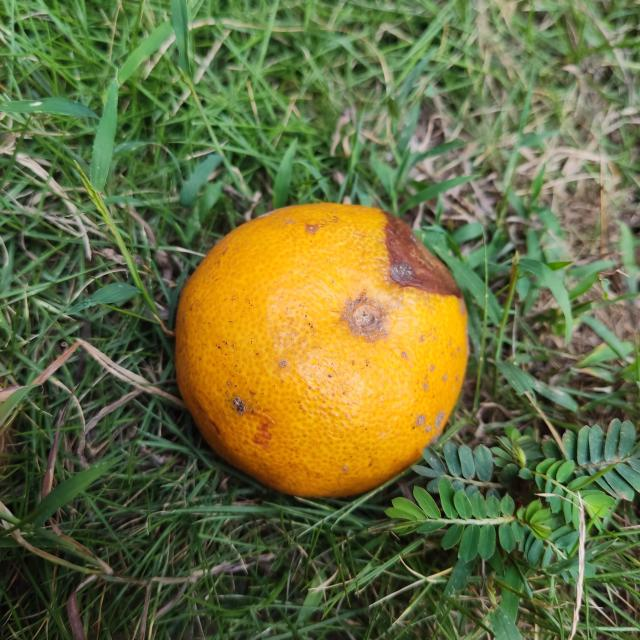orange: (172, 203, 468, 498)
